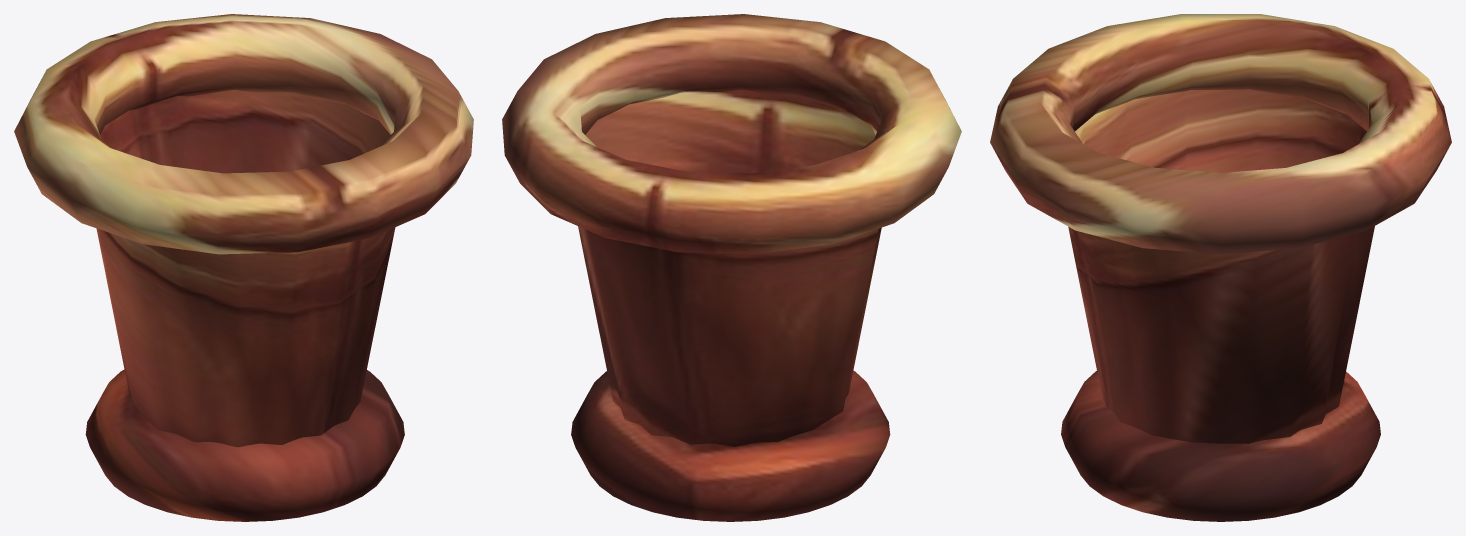
Rendered from harvestbox.gltf.
The picture shows the model from 3 angles, left to right: view 1: azimuth 30°, elevation 25°; view 2: azimuth 150°, elevation 25°; view 3: azimuth 270°, elevation 25°; orthographic projection.
Parts seen in each view (by area): view 1: Torus.001; view 2: Torus.001; view 3: Torus.001.
Part boxes in pixels (bbox=[...]): Torus.001: bbox=[14, 14, 473, 521]; Torus.001: bbox=[502, 14, 961, 521]; Torus.001: bbox=[990, 14, 1451, 521].
Bounding box in the file's own units: 2.76 × 2.46 × 2.77.
1 material, 1 textured.
